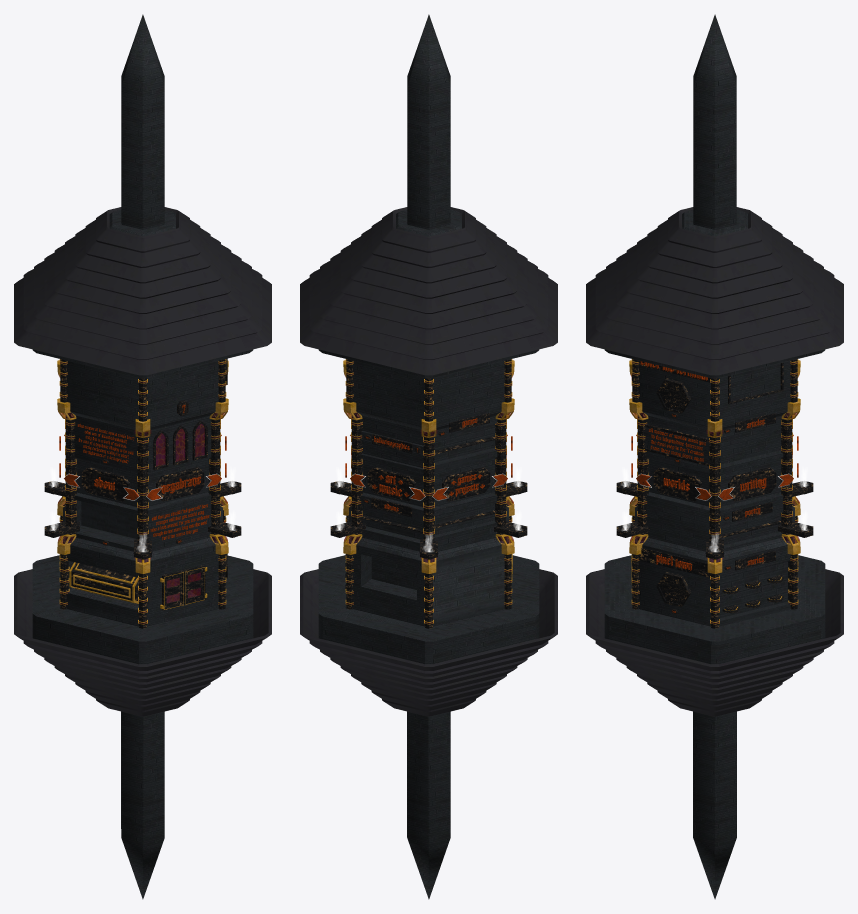
The model's file is HexCoreV2.9-transformed.glb.
3 renders of one model, left to right at view 1: azimuth 30°, elevation 25°; view 2: azimuth 150°, elevation 25°; view 3: azimuth 270°, elevation 25°, orthographic.
Parts seen in each view (by area): view 1: HexCoreFused, Spinner, CabinetDoor, CabinetDoor.001; view 2: HexCoreFused; view 3: HexCoreFused.
Part boxes in pixels (x1,y1,x2,y2): HexCoreFused: [14, 14, 271, 899]; Spinner: [69, 562, 138, 603]; CabinetDoor: [160, 570, 184, 610]; CabinetDoor.001: [183, 565, 207, 605]; HexCoreFused: [300, 14, 557, 899]; HexCoreFused: [586, 14, 843, 899].
Bounding box in the file's own units: 3.17 × 10.58 × 2.79.
Materials: 8 (7 with a texture image).
